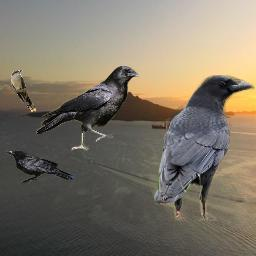Crow: (151, 75, 255, 221), (36, 65, 142, 152), (6, 150, 74, 185)
Cuckoo: (11, 70, 36, 112)
